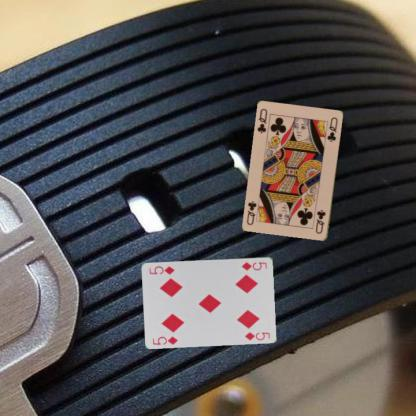5d: (239, 260, 268, 272), (150, 334, 179, 346)
Qc: (254, 106, 269, 135), (313, 208, 327, 235)
